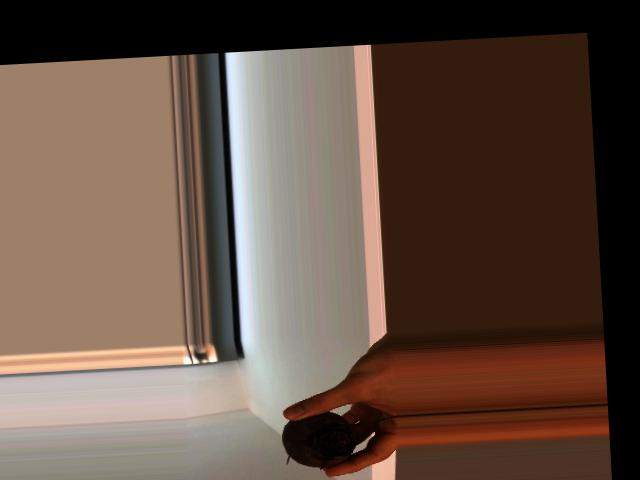beet: (279, 406, 399, 471)
